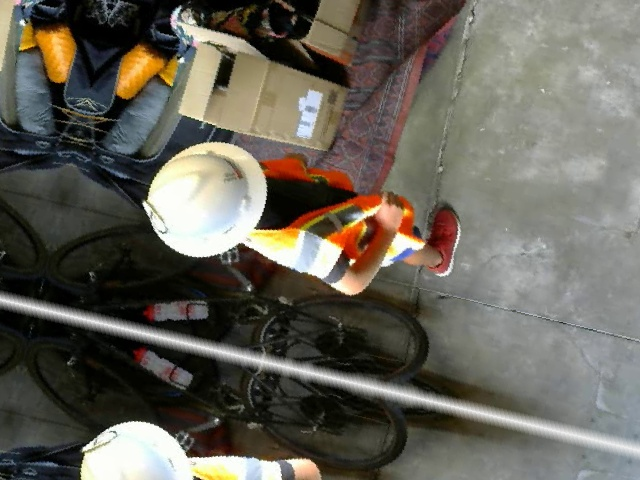one: (135, 199, 173, 234)
